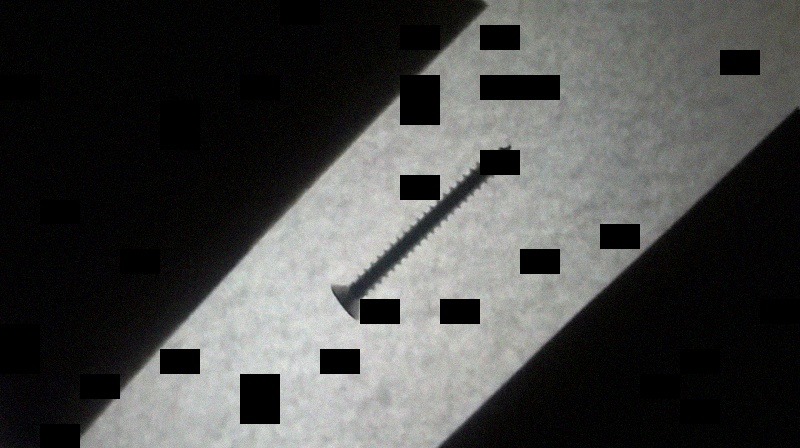S002: (325, 141, 513, 322)
